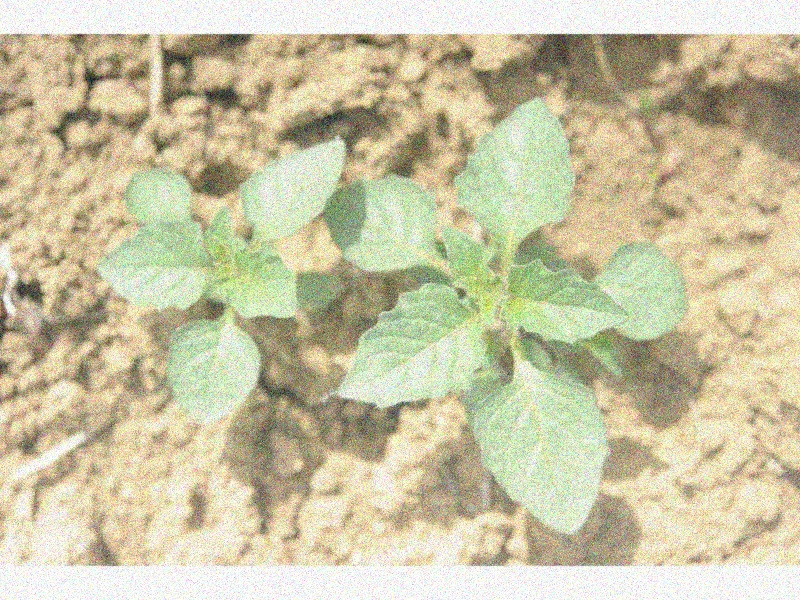nightshade: (323, 96, 686, 537), (99, 138, 343, 428)
